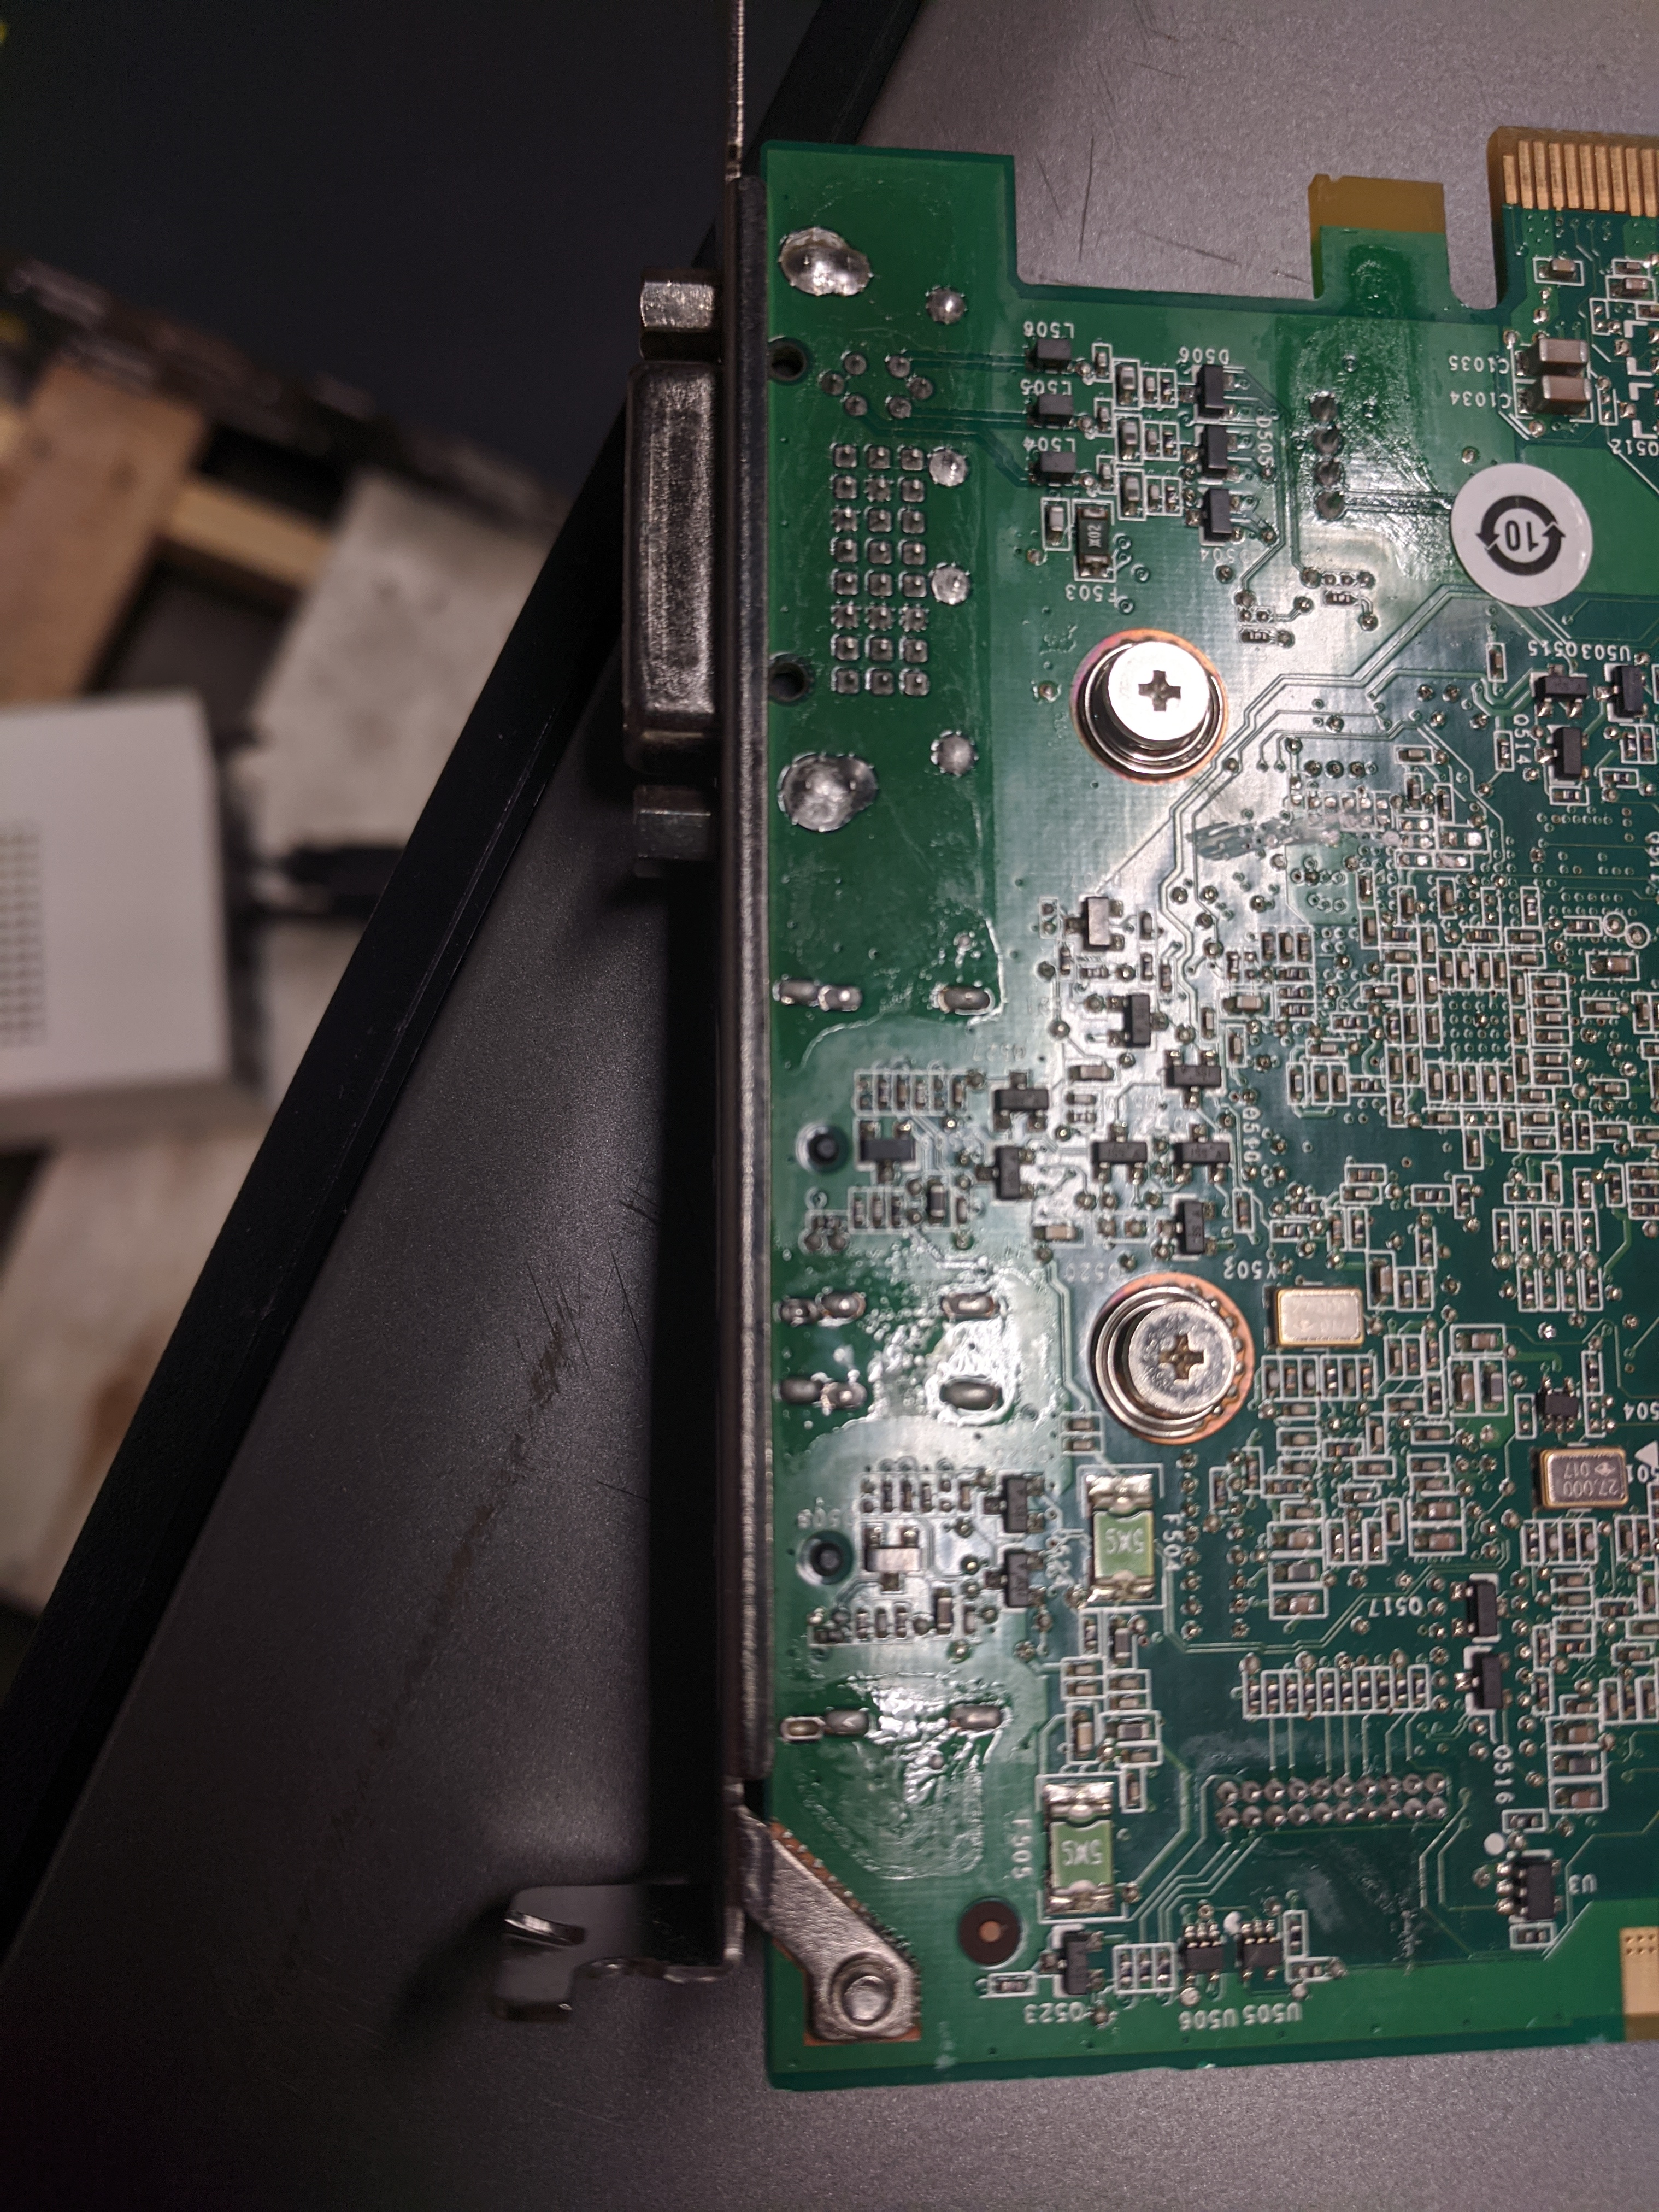cross_recessed_screw: (1131, 1305, 1218, 1400), (1114, 643, 1202, 730)
